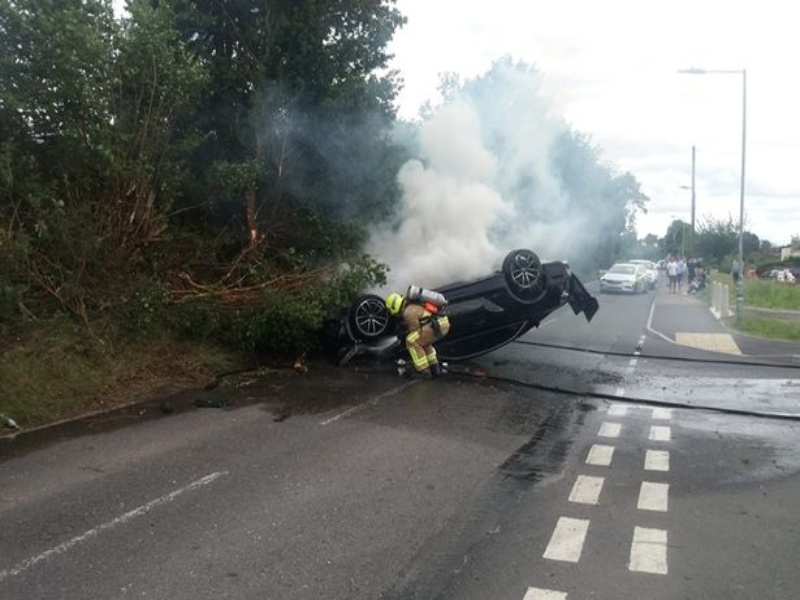smoke: (359, 63, 603, 280)
